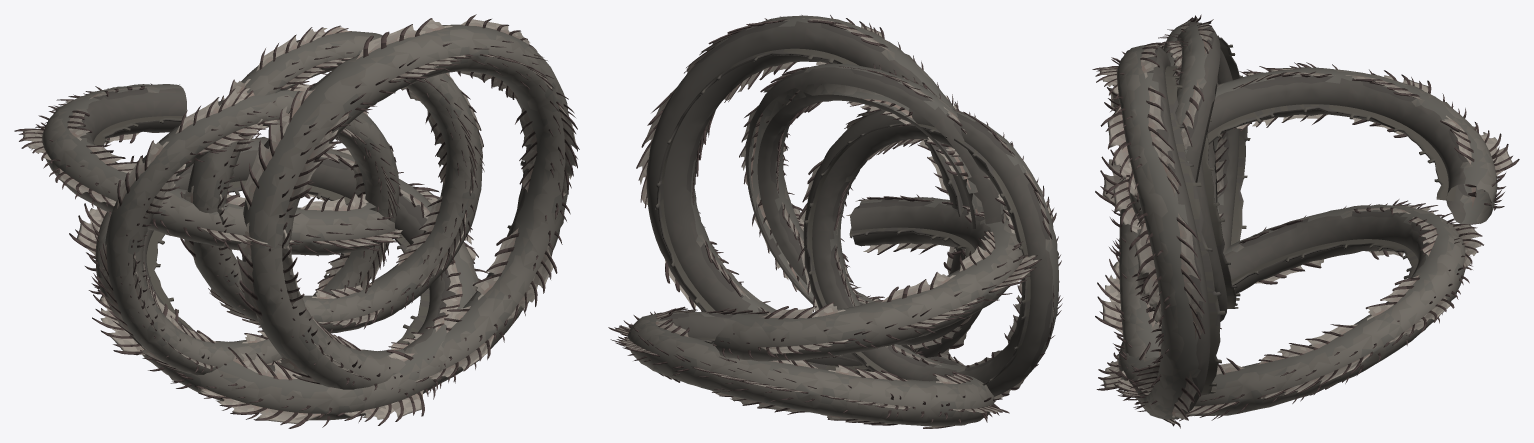
File: R_Act_Fix_f.fbx
3 views of the same model, side by side, from view 1: azimuth 30°, elevation 25°; view 2: azimuth 150°, elevation 25°; view 3: azimuth 270°, elevation 25° (orthographic). The views are drawn at different scales.
Parts seen in each view (by area): view 1: LevRing1, levring3, LeviathanRing2, levring2, LeviathanRing; view 2: LevRing1, levring2, LeviathanRing, LeviathanRing2, levring3; view 3: LevRing1, LeviathanRing2, LeviathanRing, levring2, levring3.
Part boxes in pixels (<box>): LevRing1: <box>236,14,579,392</box>; levring3: <box>180,25,484,333</box>; LeviathanRing2: <box>69,133,488,428</box>; levring2: <box>97,83,399,376</box>; LeviathanRing: <box>14,83,402,257</box>; LevRing1: <box>636,15,981,373</box>; levring2: <box>797,107,1062,401</box>; LeviathanRing: <box>713,194,1041,362</box>; LeviathanRing2: <box>608,306,1009,428</box>; levring3: <box>739,63,1007,352</box>; LevRing1: <box>1092,42,1225,428</box>; LeviathanRing2: <box>1096,199,1483,421</box>; LeviathanRing: <box>1106,62,1519,233</box>; levring2: <box>1158,14,1251,329</box>; levring3: <box>1132,19,1220,312</box>.
Bounding box in the file's own units: 129 × 101 × 110.
